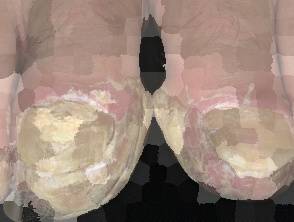Nail_psoriasis: (3, 72, 157, 222), (150, 83, 294, 202)
